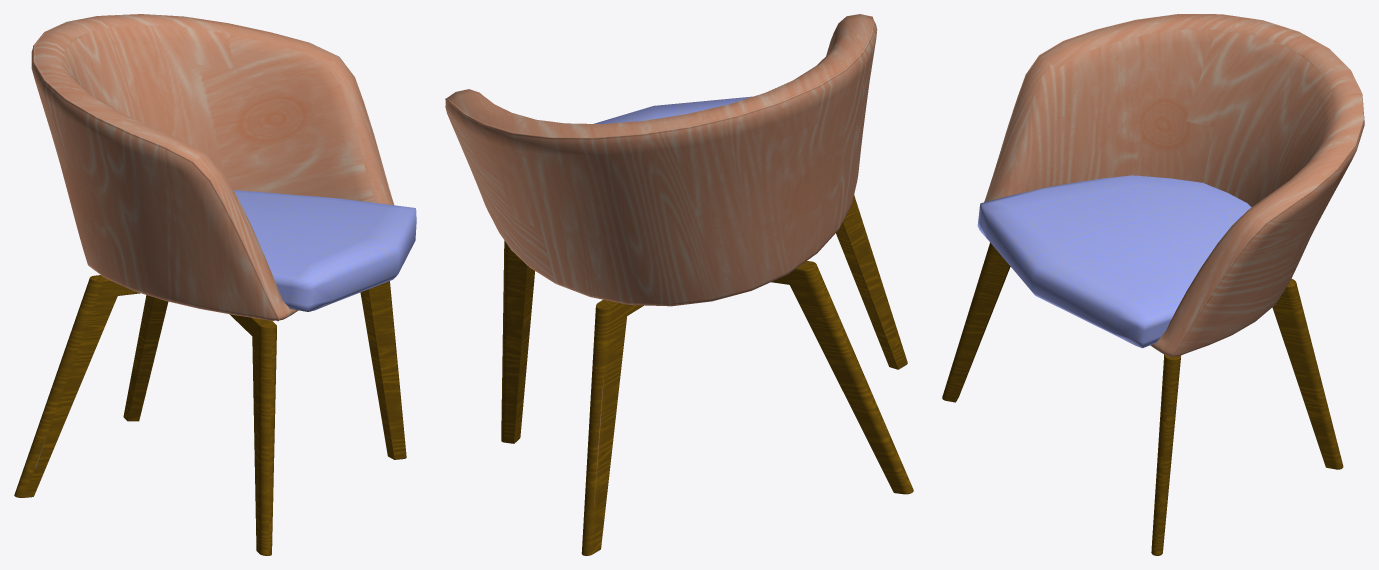
The model's file is chair7.glb.
The picture shows the model from 3 angles, left to right: view 1: azimuth 30°, elevation 25°; view 2: azimuth 150°, elevation 25°; view 3: azimuth 270°, elevation 25°; orthographic projection. The views are drawn at different scales.
Parts seen in each view (by area): view 1: Plane010.010_Mesh.019; view 2: Plane010.010_Mesh.019; view 3: Plane010.010_Mesh.019.
Boxes of the visible parts, x1,y1,x2,y2 form: Plane010.010_Mesh.019: [14, 14, 416, 555]; Plane010.010_Mesh.019: [445, 14, 913, 555]; Plane010.010_Mesh.019: [942, 14, 1364, 555].
Bounding box in the file's own units: 4.6 × 4.89 × 4.71.
Materials: 1 (1 with a texture image).
